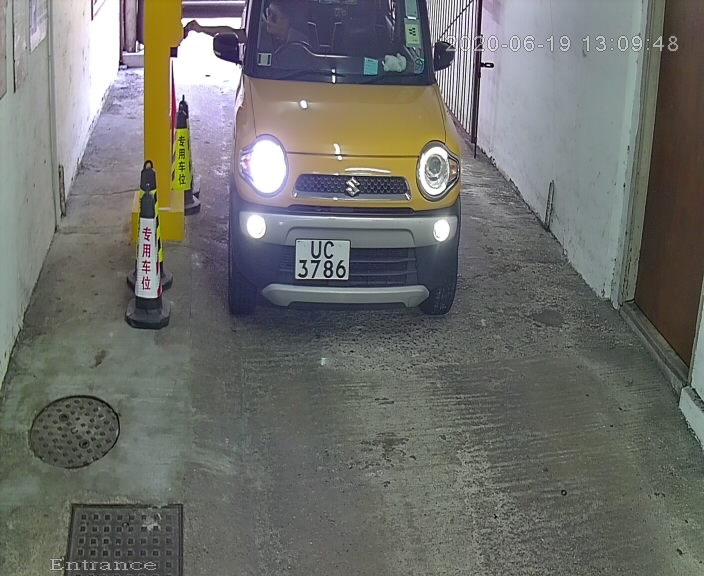privatecar: (199, 3, 484, 343)
